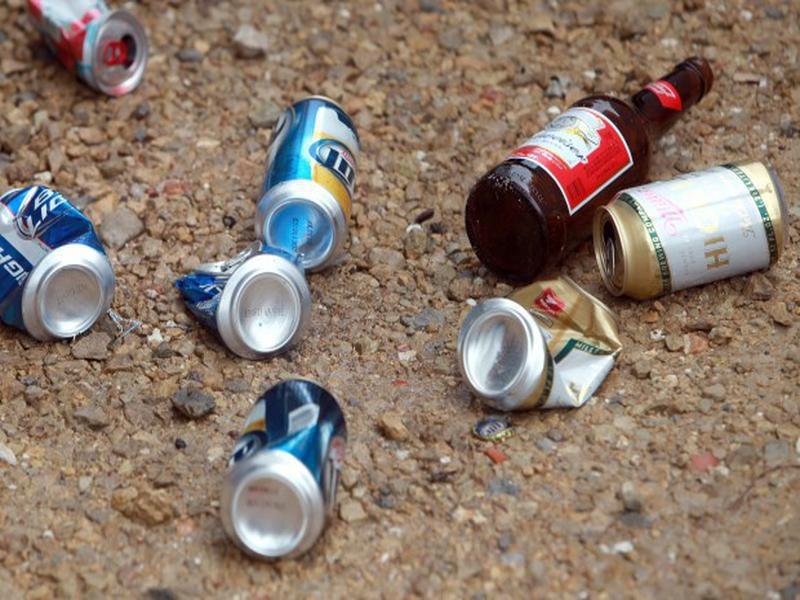bottle: (460, 49, 717, 282)
can: (590, 159, 788, 302), (213, 378, 350, 568), (451, 274, 623, 414), (252, 91, 359, 269), (1, 183, 117, 345), (167, 242, 315, 362), (23, 1, 154, 98)
